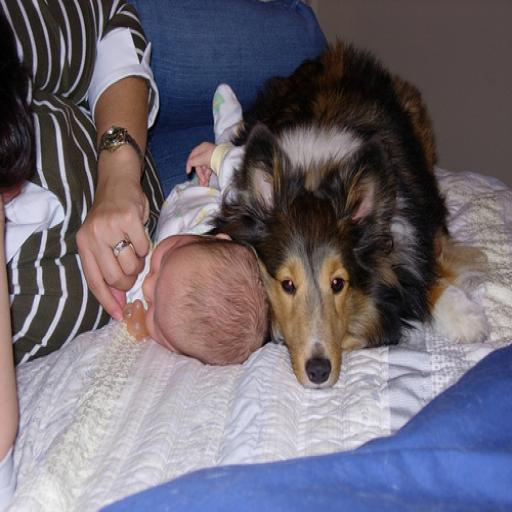dog_face: (222, 125, 405, 388)
